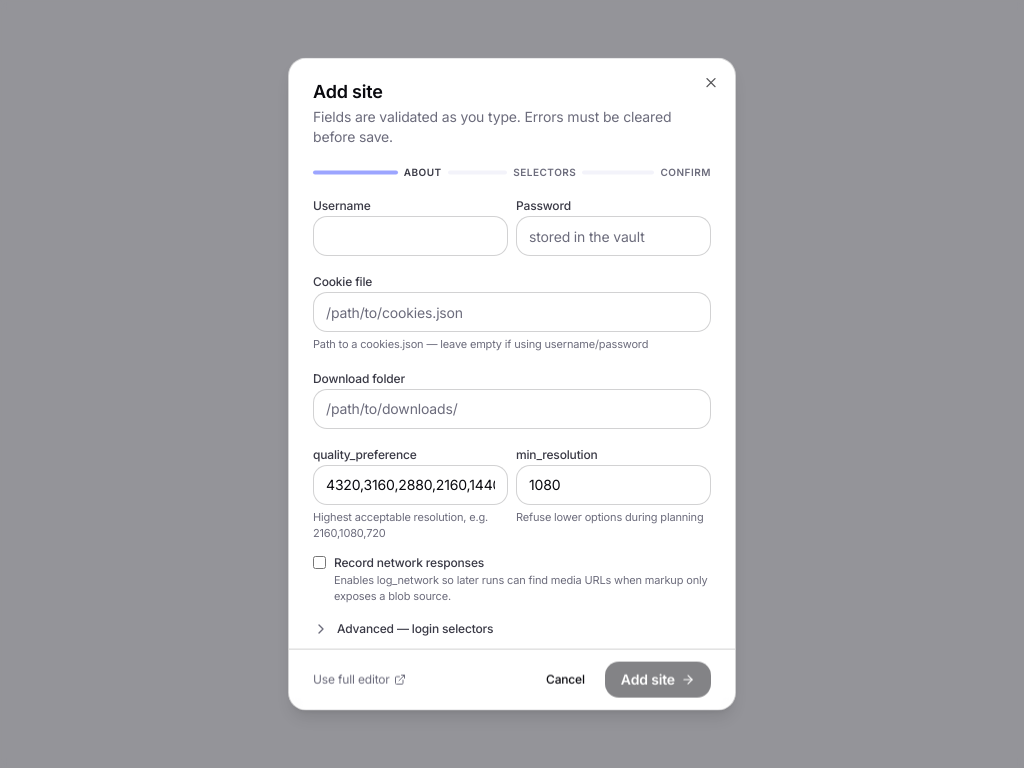
Test: AddSiteWizard advanced login selectors (3b) › hides the selector fields until the Advanced disclosure is expanded
The image size is (1024, 768).
(page scrolled)
Click the button "Advanced — login selectors" at (415,628), box x1=313 y1=620 x2=711 y2=636
(page scrolled)
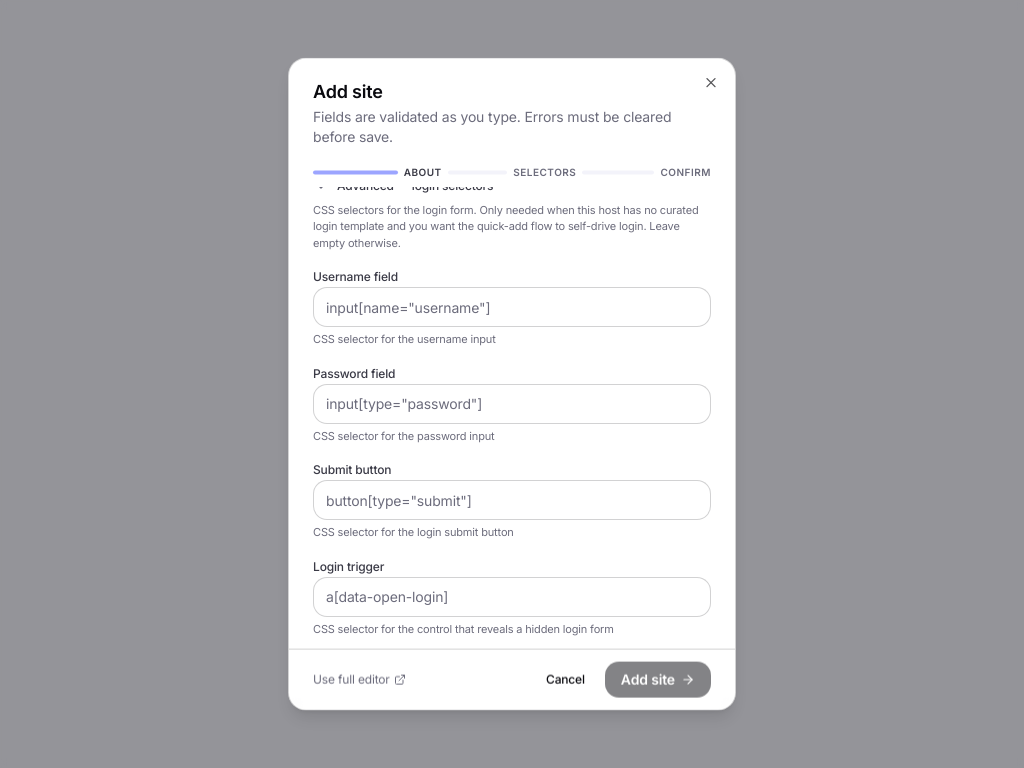
Expected: the field named "Username field selector" is shown, x1=313 y1=287 x2=711 y2=327
Expected: the field named "Password field selector" is shown, x1=313 y1=383 x2=711 y2=423
Expected: the field named "Submit button selector" is shown, x1=313 y1=480 x2=711 y2=520
